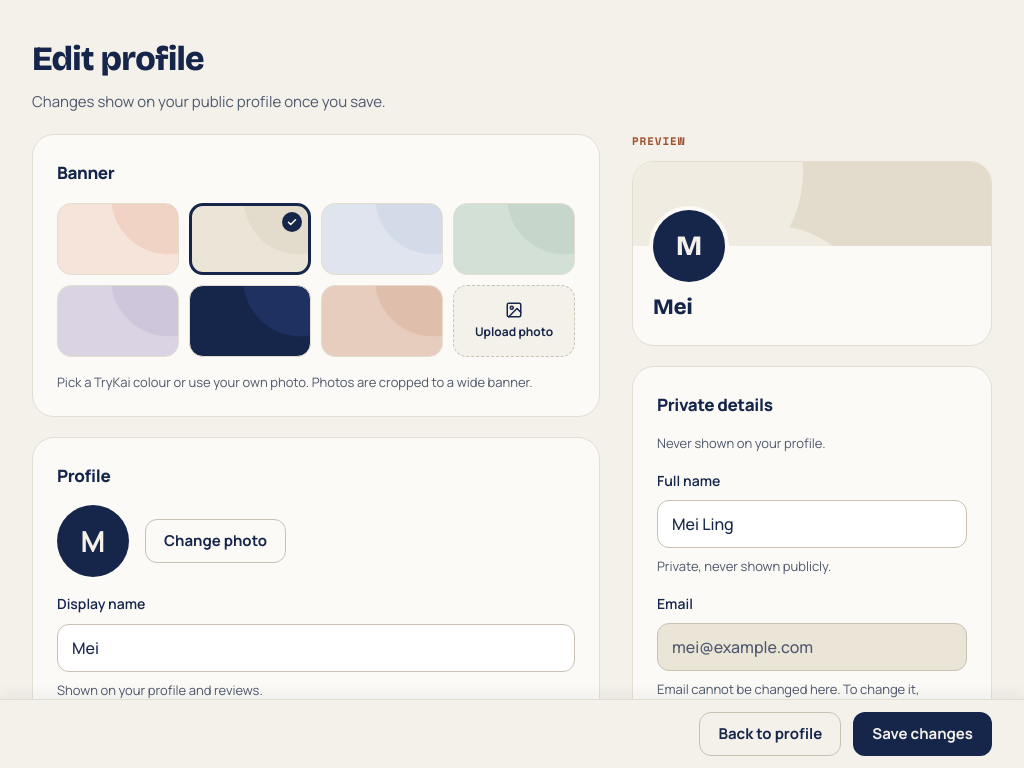
Test: Settings profile form › requires a full name before saving
The image size is (1024, 768).
Expected: the heading "Edit profile" is shown, 32,38 -> 204,79
Clear the field labelled "Full name" at (812, 524), box 657,500 -> 967,548
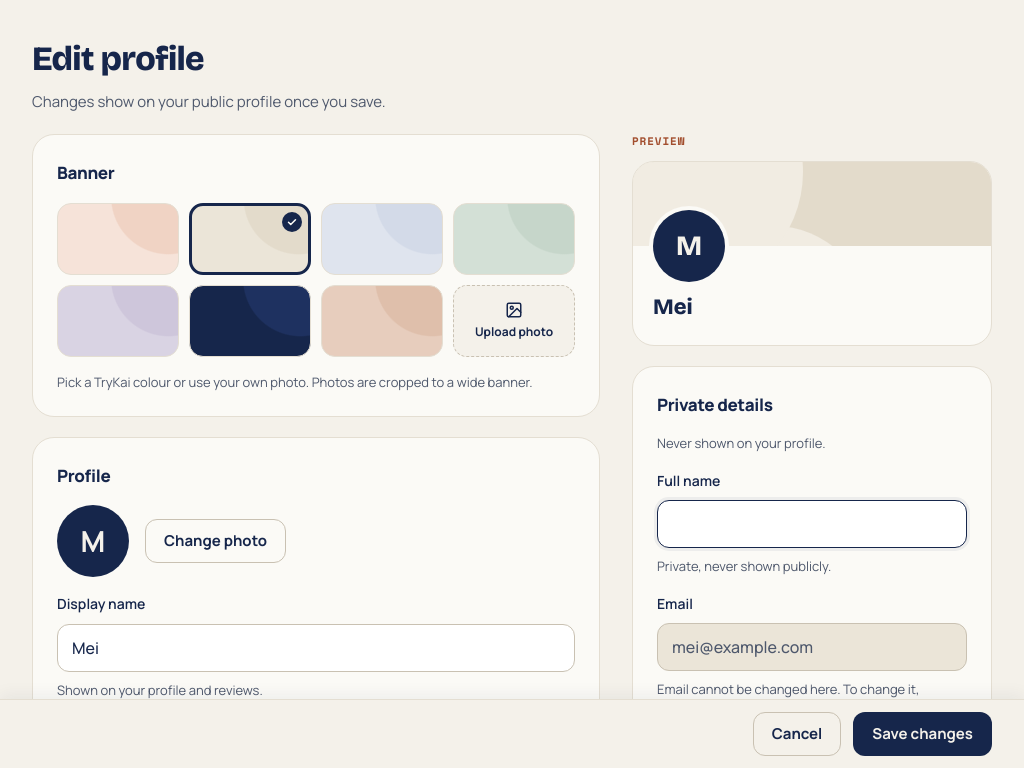
Click the button "Save changes" at (923, 734), box 853,712 -> 992,756
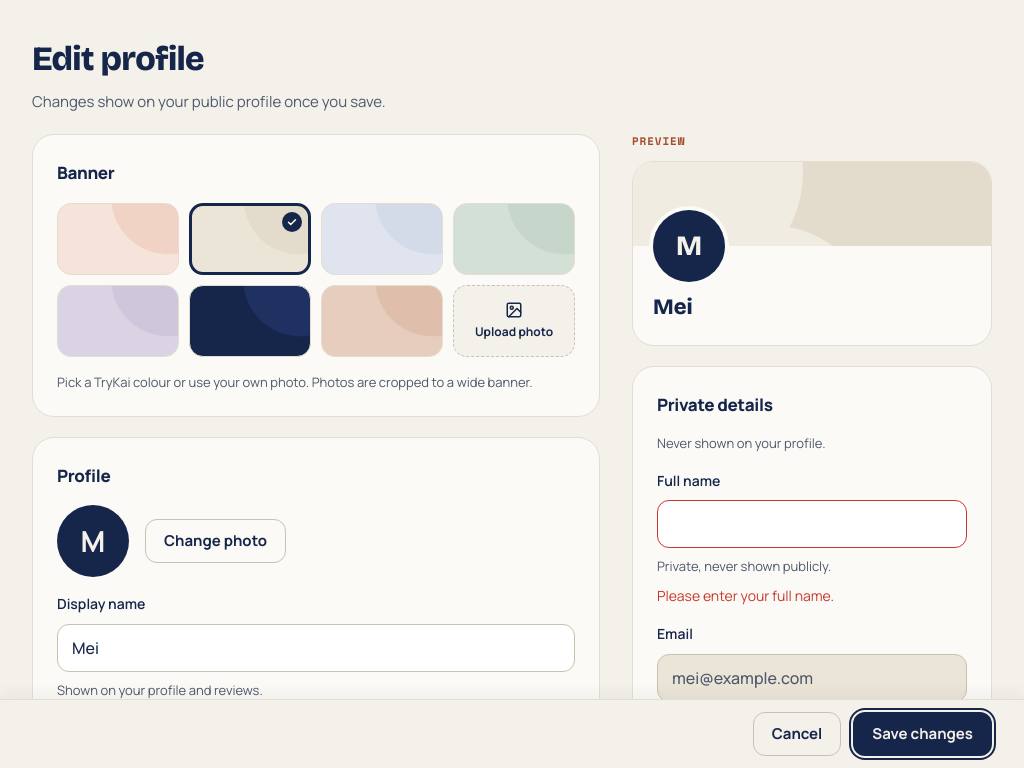
Now the text "Please enter your full name." is shown, box 657,586 -> 834,605
